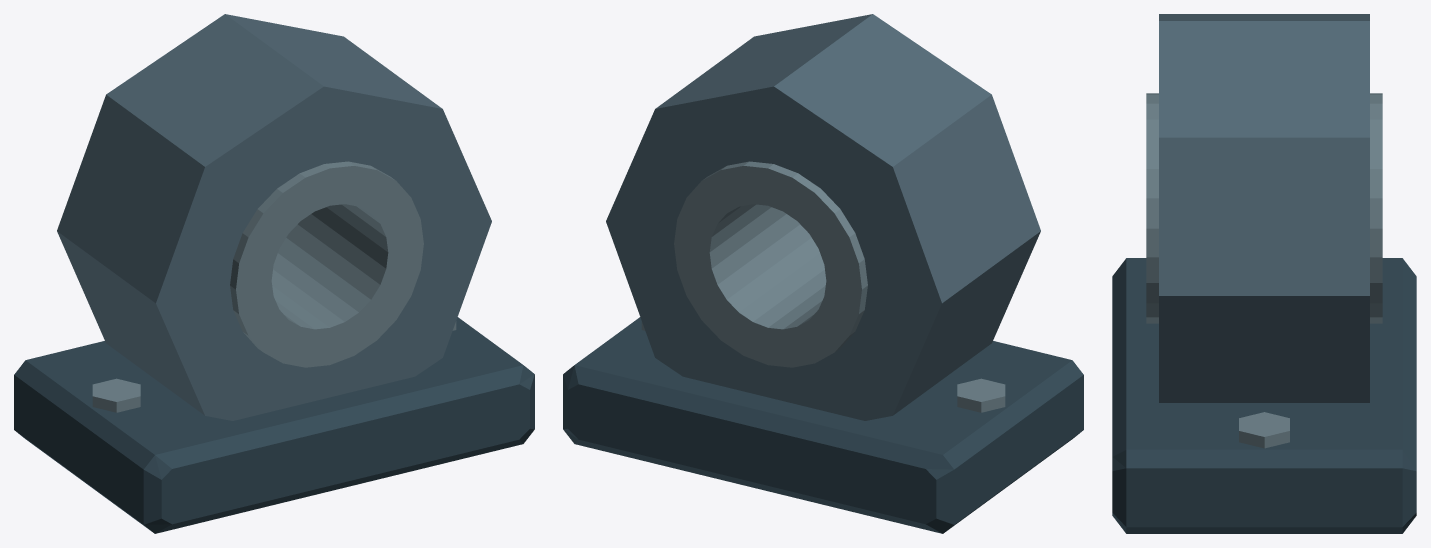
File: 14_BearingBlock.obj
The picture shows the model from 3 angles, left to right: view 1: azimuth 30°, elevation 25°; view 2: azimuth 150°, elevation 25°; view 3: azimuth 270°, elevation 25°; orthographic projection. The views are drawn at different scales.
Size of the model in its own units: 0.57 by 0.545 by 0.36.
